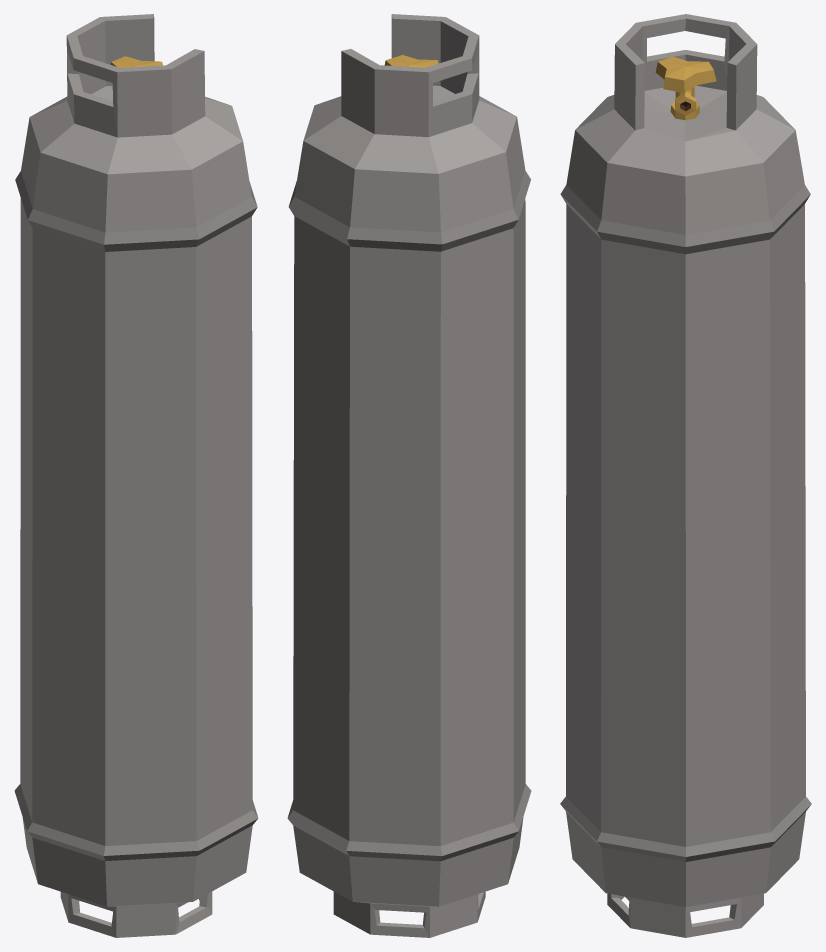
Rendered from SM_Prop_Propane_01.glb.
3 views of the same model, side by side, from view 1: azimuth 30°, elevation 25°; view 2: azimuth 150°, elevation 25°; view 3: azimuth 270°, elevation 25° (orthographic).
Visible parts, largest first — view 1: SM_Prop_Propane_01; view 2: SM_Prop_Propane_01; view 3: SM_Prop_Propane_01.
Boxes of the visible parts, box(x1,y1,x2,y2) form: SM_Prop_Propane_01: box(14, 14, 258, 937); SM_Prop_Propane_01: box(287, 14, 531, 937); SM_Prop_Propane_01: box(560, 14, 811, 937).
Size of the model in its own units: 0.3646 by 1.37 by 0.3646.
Materials: 1 (1 with a texture image).
